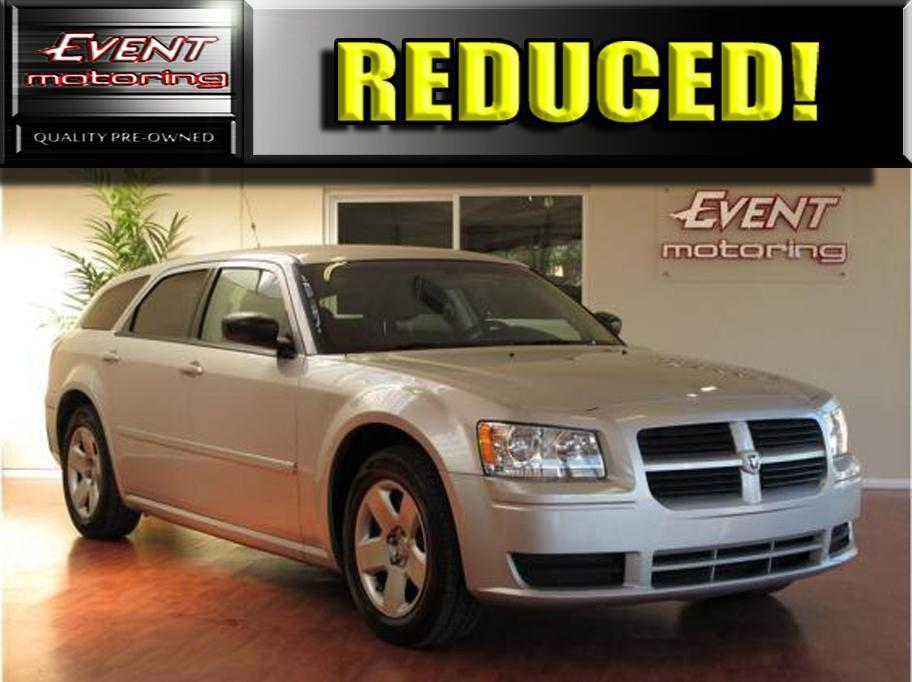Car: (28, 229, 879, 651)
